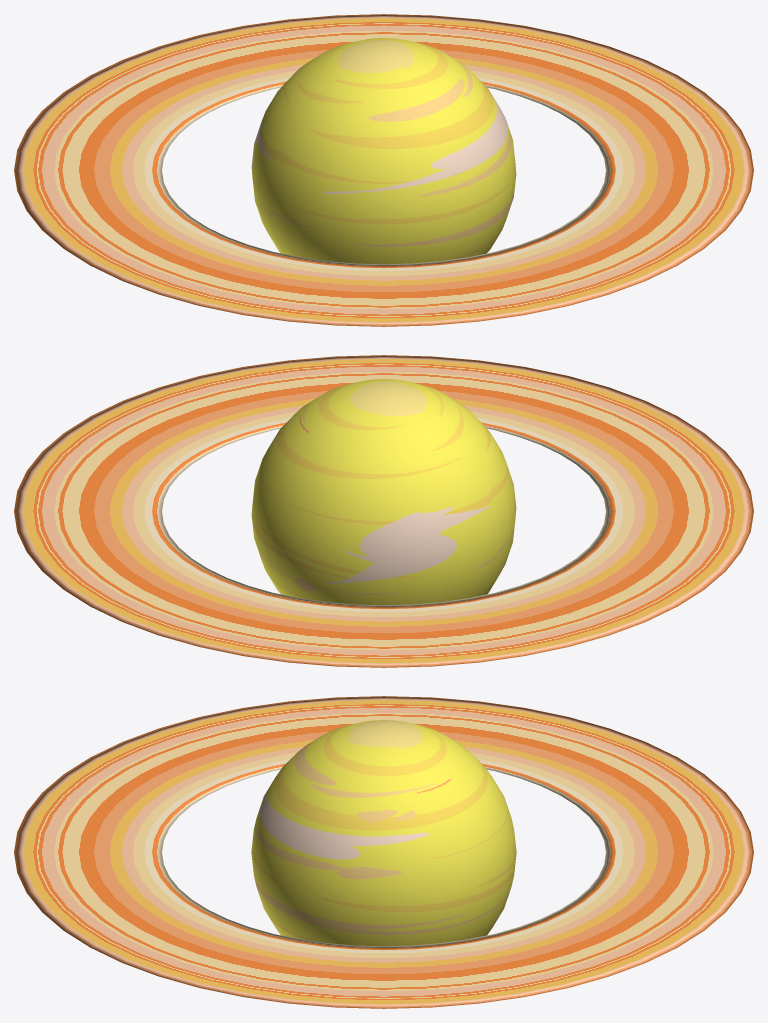
File: Planet.gltf
3 views of the same model, one above another, from view 1: azimuth 30°, elevation 25°; view 2: azimuth 150°, elevation 25°; view 3: azimuth 270°, elevation 25° (orthographic).
Visible parts, largest first — view 1: Torus, Sphere; view 2: Torus, Sphere; view 3: Torus, Sphere.
Part boxes in pixels (bbox=[...]): Torus: bbox=[14, 14, 753, 326]; Sphere: bbox=[251, 38, 516, 264]; Torus: bbox=[14, 355, 753, 667]; Sphere: bbox=[251, 379, 516, 605]; Torus: bbox=[14, 696, 753, 1008]; Sphere: bbox=[251, 720, 516, 946].
Size of the model in its own units: 55.79 by 20 by 55.79.
Materials: 2 (2 with a texture image).
